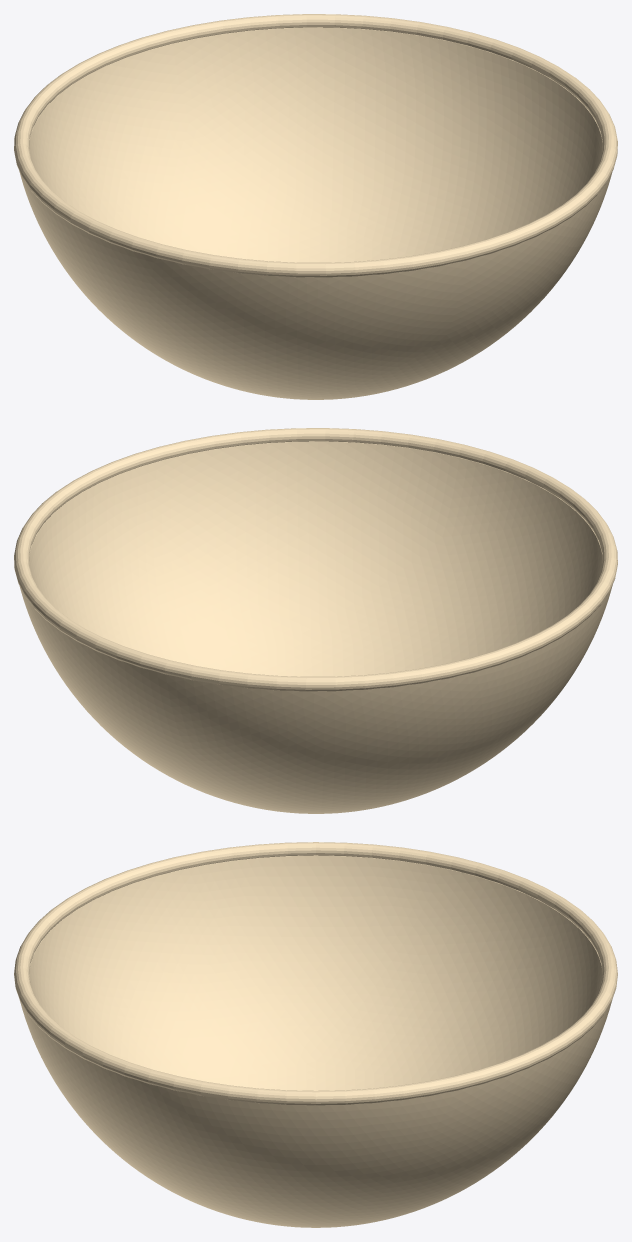
3 views of the same model, one above another, from view 1: azimuth 30°, elevation 25°; view 2: azimuth 150°, elevation 25°; view 3: azimuth 270°, elevation 25° (orthographic).
Visible parts, largest first — view 1: obj_0; view 2: obj_0; view 3: obj_0.
Boxes of the visible parts, <box> form: obj_0: <box>14,14,617,399</box>; obj_0: <box>14,428,617,813</box>; obj_0: <box>14,842,617,1227</box>.
Bounding box in the file's own units: 19700 × 7946 × 19700.
